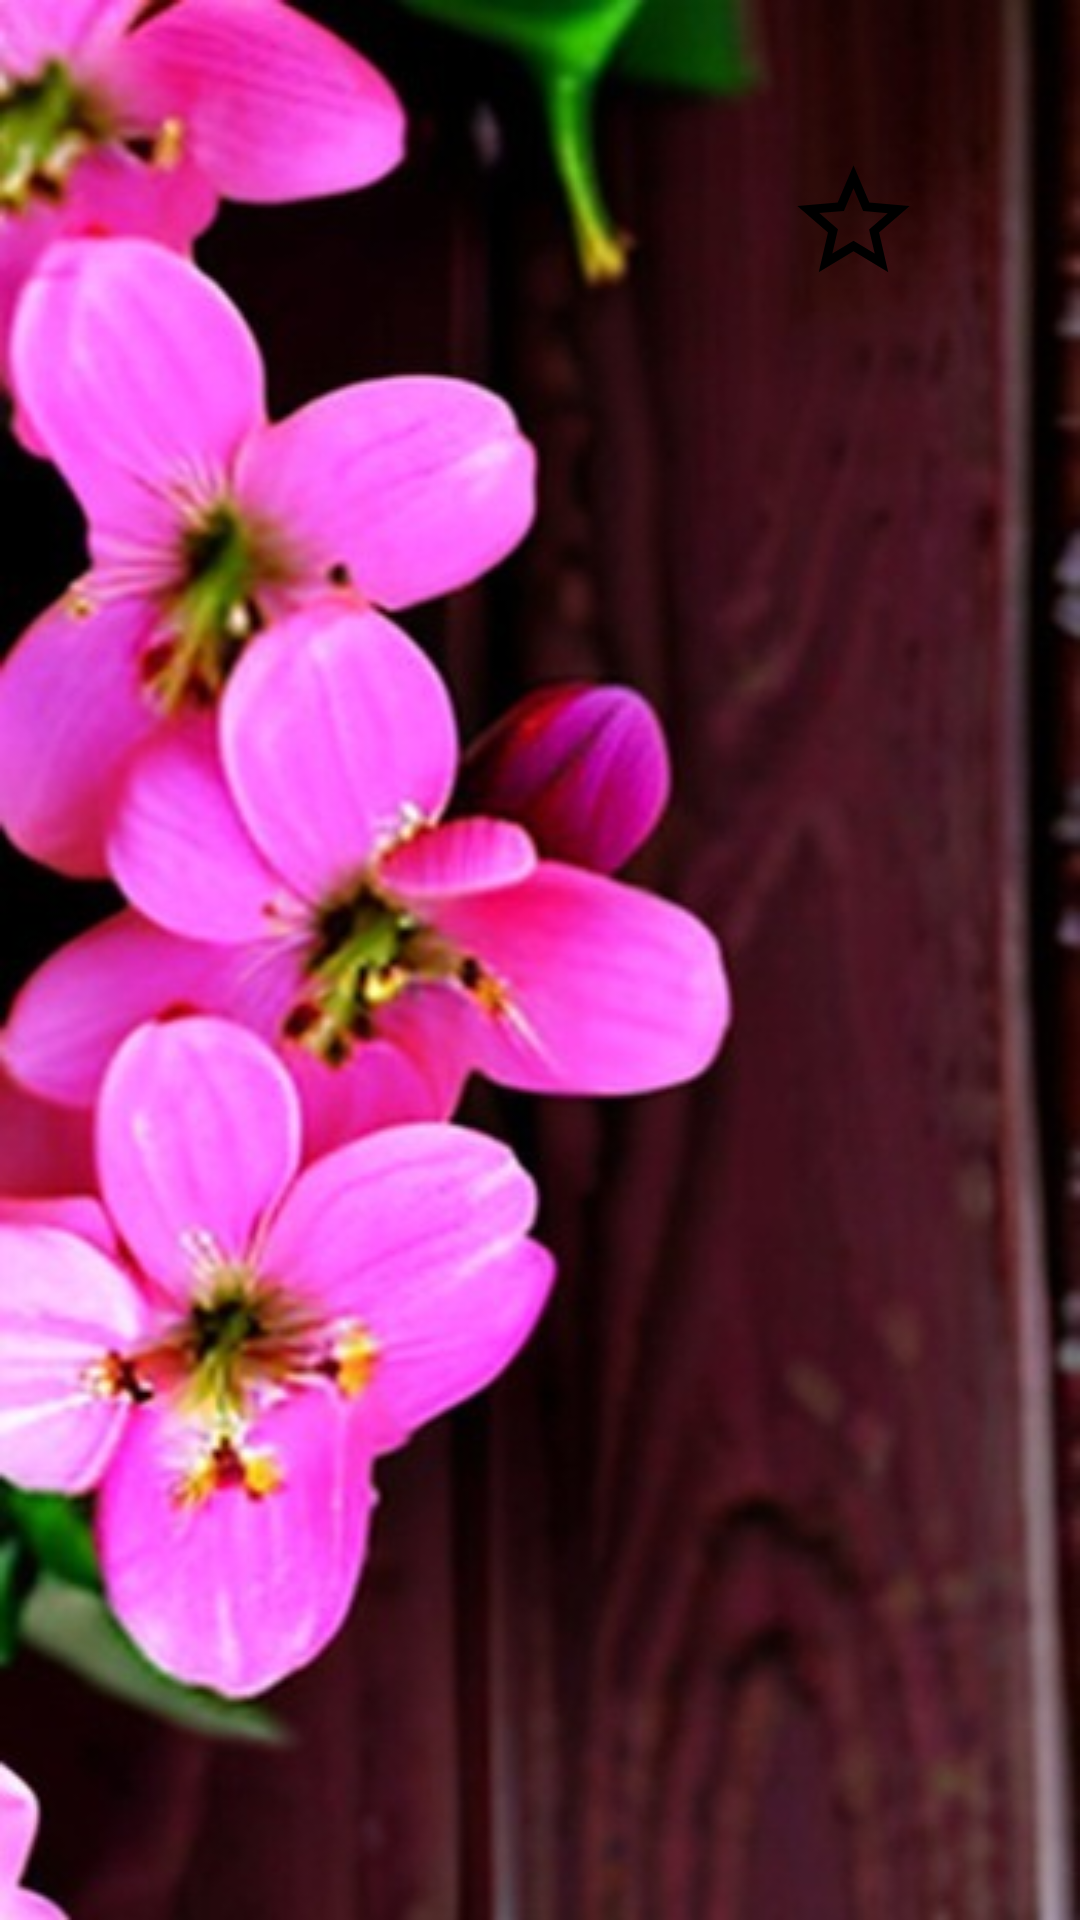

Icon click points for this 1080px×1920px phone screenshot, format point (x, y):
favourite item: point (853, 219)
